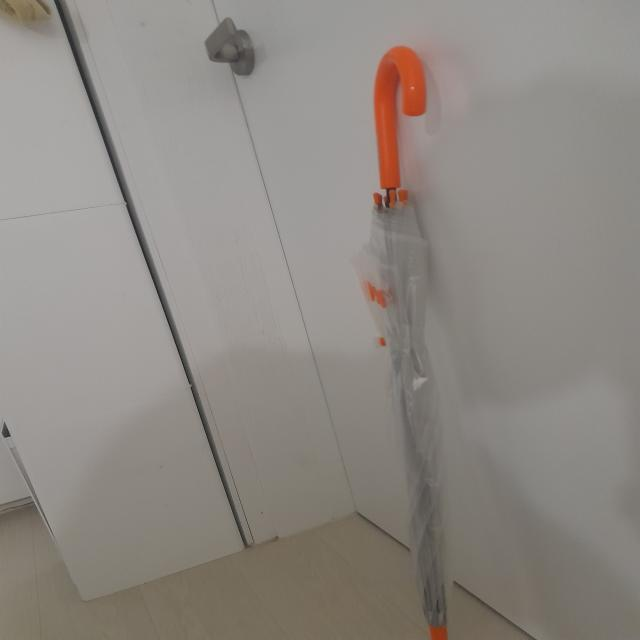umbrella: (368, 48, 447, 640)
